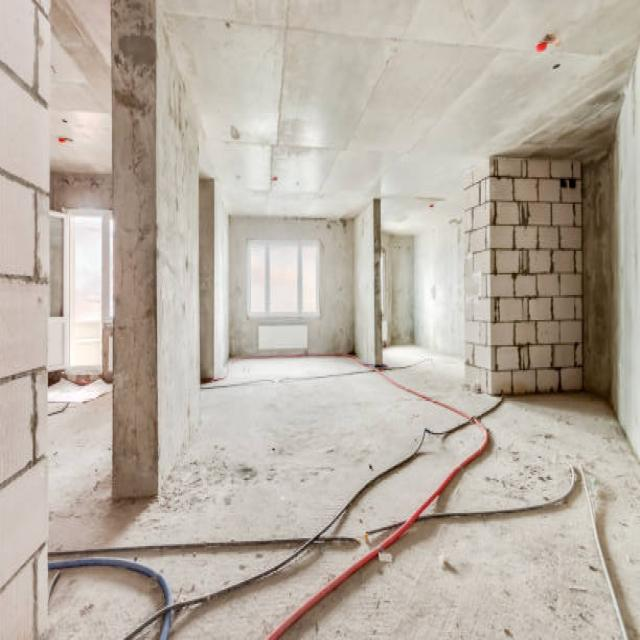floor: (48, 358, 461, 601), (172, 427, 483, 640), (289, 482, 623, 640), (432, 394, 640, 639), (47, 571, 163, 639), (386, 347, 497, 414)
wall: (110, 0, 158, 499), (489, 158, 584, 394), (229, 216, 354, 357), (610, 50, 640, 462), (199, 127, 230, 381), (581, 150, 611, 403), (414, 208, 464, 358), (461, 158, 490, 394), (381, 232, 414, 348), (354, 201, 375, 368), (49, 172, 114, 212), (373, 200, 382, 368), (258, 348, 307, 357)
